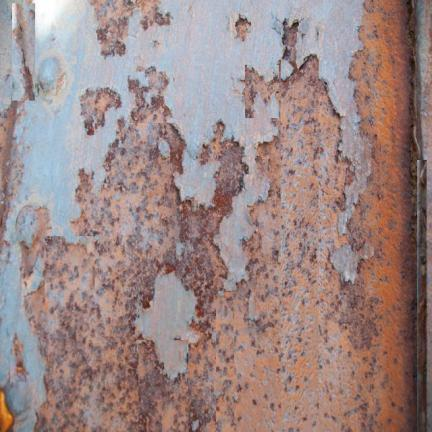karat: (20, 1, 430, 431)
